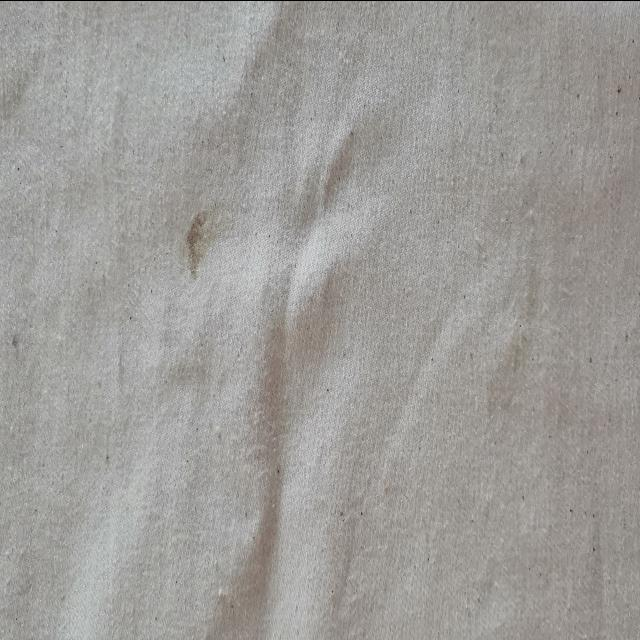taaaches: (170, 194, 248, 321)
